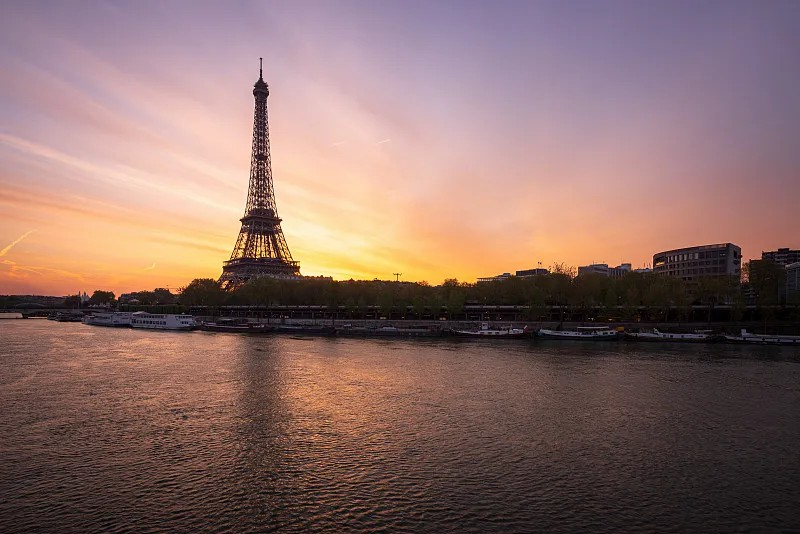Eiffel: (217, 58, 303, 294)
